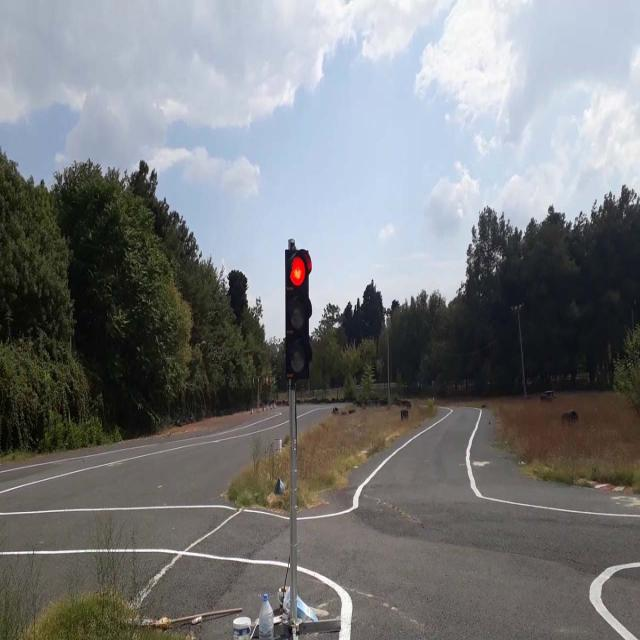kirmizi: (284, 248, 310, 378)
